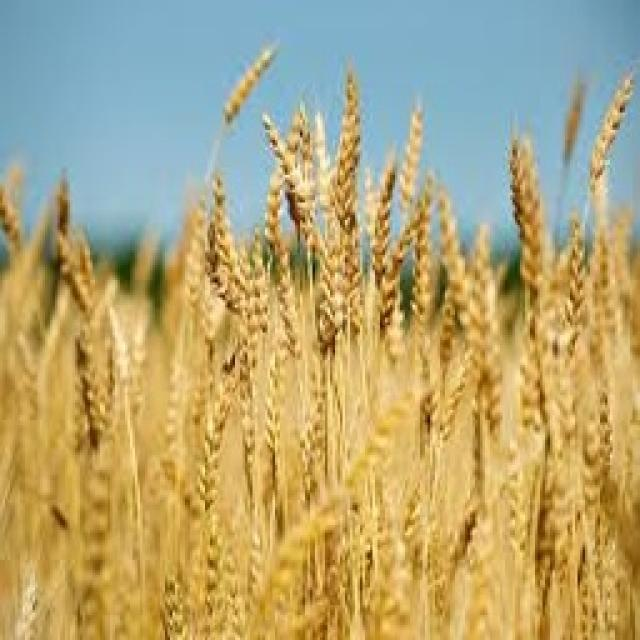Healthy Wheat: (0, 38, 638, 638)
